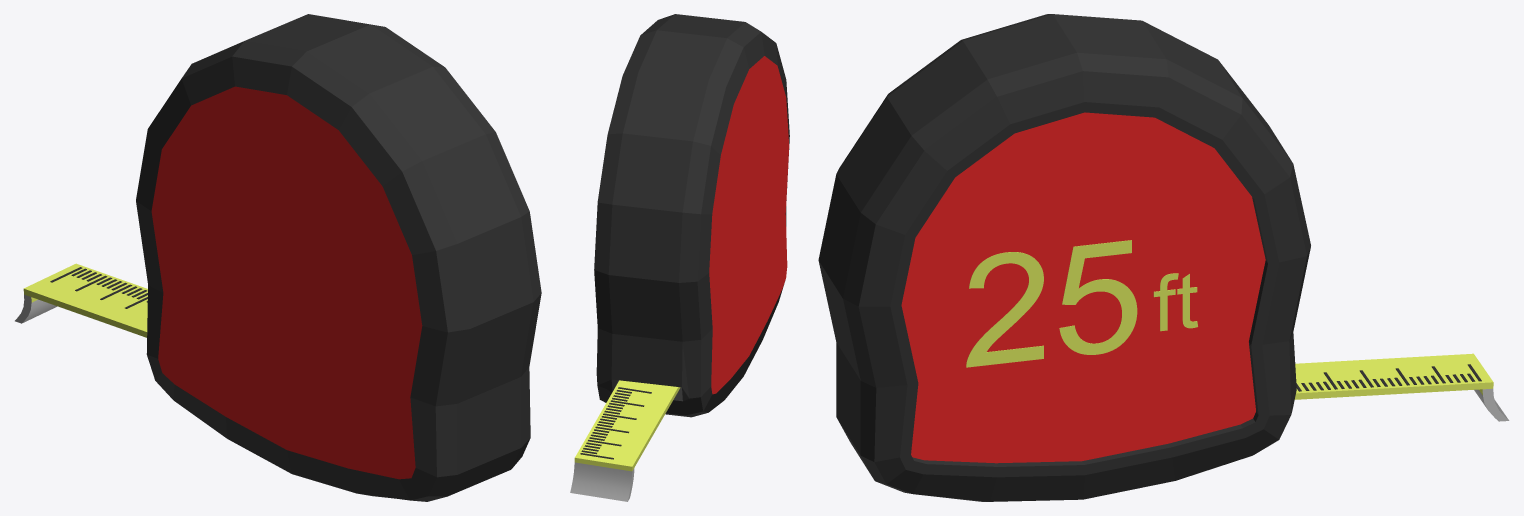
File: f57b053f-34c8-4fbc-8f9b-2bc209998495.glb
3 views of the same model, side by side, from view 1: azimuth 30°, elevation 25°; view 2: azimuth 150°, elevation 25°; view 3: azimuth 270°, elevation 25° (orthographic). The views are drawn at different scales.
Visible parts, largest first — view 1: Cylinder002, Box031; view 2: Cylinder002, Box031; view 3: Cylinder002, Text003, Box031, Text004.
Boxes of the visible parts, <box> form: Cylinder002: <box>136,14,541,501</box>; Box031: <box>15,263,147,337</box>; Cylinder002: <box>594,14,789,417</box>; Box031: <box>570,380,680,501</box>; Cylinder002: <box>818,14,1310,501</box>; Text003: <box>966,240,1137,367</box>; Box031: <box>1294,353,1509,421</box>; Text004: <box>1153,273,1197,331</box>.
Bounding box in the file's own units: 363667 × 649746 × 910154.
